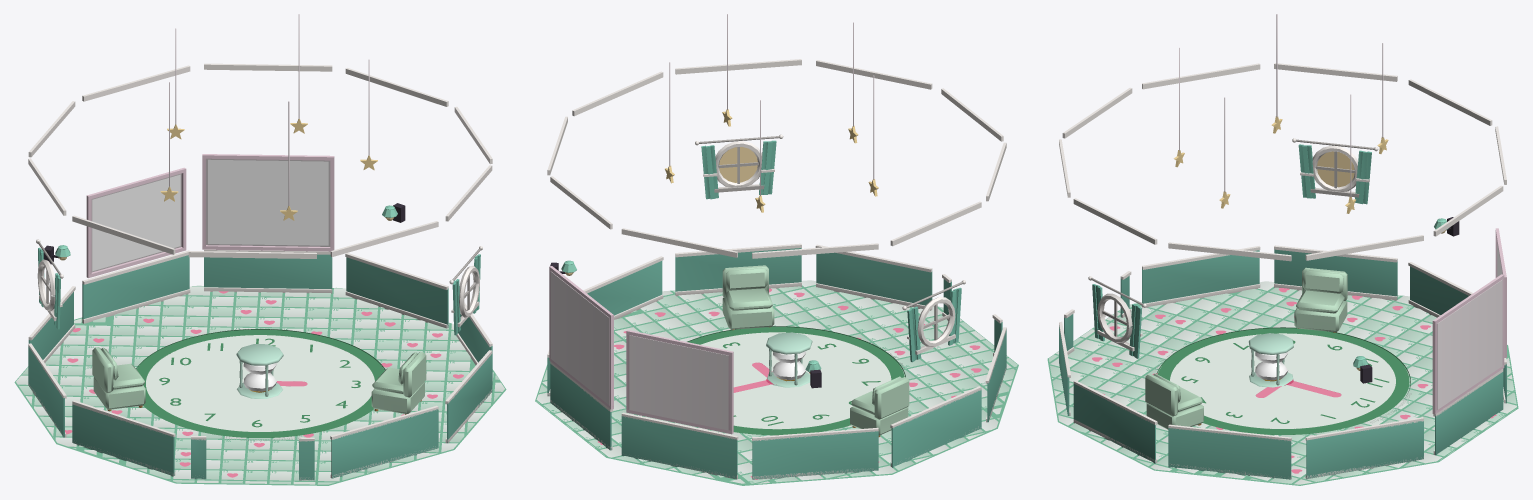
The model's file is zon_room_calendar_lite.glb.
3 renders of one model, left to right at view 1: azimuth 30°, elevation 25°; view 2: azimuth 150°, elevation 25°; view 3: azimuth 270°, elevation 25°, orthographic.
Parts seen in each view (by area): view 1: SM_zon_room_calendar_lite_room_floor_plaster_x0_zm1, SM_zon_room_calendar_lite_room_floor_glaze_x0_zm1, SM_zon_room_calendar_lite_room_rug_fabric_x0_zm1, SCREEN_fur_screen_calendar_dates__0, SCREEN_fur_screen_calendar_love__0, SM_zon_room_calendar_lite_room_floor_fabric_x0_zm1, ANIM_fur_hourglass_calendar_lite_glass__0, SM_zon_room_calendar_lite_room_floor_gloss_x0_zm1; view 2: SM_zon_room_calendar_lite_room_floor_plaster_x0_zm1, SM_zon_room_calendar_lite_room_floor_glaze_x0_zm1, SM_zon_room_calendar_lite_room_rug_fabric_x0_zm1, SM_zon_room_calendar_lite_room_floor_fabric_x0_zm1, ANIM_fur_hourglass_calendar_lite_glass__0, SM_zon_room_calendar_lite_glow_vc_x0_zm1, SM_zon_room_calendar_lite_room_floor_gloss_x0_zm1; view 3: SM_zon_room_calendar_lite_room_floor_plaster_x0_zm1, SM_zon_room_calendar_lite_room_floor_glaze_x0_zm1, SM_zon_room_calendar_lite_room_rug_fabric_x0_zm1, SM_zon_room_calendar_lite_room_floor_fabric_x0_zm1, ANIM_fur_hourglass_calendar_lite_glass__0, SM_zon_room_calendar_lite_glow_vc_x0_zm1, SM_zon_room_calendar_lite_room_floor_gloss_x0_zm1.
Boxes of the visible parts, <box> form: SM_zon_room_calendar_lite_room_floor_plaster_x0_zm1: <box>28,14,492,481</box>; SM_zon_room_calendar_lite_room_floor_glaze_x0_zm1: <box>14,285,506,485</box>; SM_zon_room_calendar_lite_room_rug_fabric_x0_zm1: <box>136,328,385,441</box>; SCREEN_fur_screen_calendar_dates__0: <box>208,159,328,245</box>; SCREEN_fur_screen_calendar_love__0: <box>92,174,180,271</box>; SM_zon_room_calendar_lite_room_floor_fabric_x0_zm1: <box>92,347,426,413</box>; ANIM_fur_hourglass_calendar_lite_glass__0: <box>236,344,283,398</box>; SM_zon_room_calendar_lite_room_floor_gloss_x0_zm1: <box>65,291,463,477</box>; SM_zon_room_calendar_lite_room_floor_plaster_x0_zm1: <box>547,14,1006,479</box>; SM_zon_room_calendar_lite_room_floor_glaze_x0_zm1: <box>535,280,1018,485</box>; SM_zon_room_calendar_lite_room_rug_fabric_x0_zm1: <box>687,326,906,435</box>; SM_zon_room_calendar_lite_room_floor_fabric_x0_zm1: <box>722,265,909,435</box>; ANIM_fur_hourglass_calendar_lite_glass__0: <box>766,332,812,387</box>; SM_zon_room_calendar_lite_glow_vc_x0_zm1: <box>565,147,810,373</box>; SM_zon_room_calendar_lite_room_floor_gloss_x0_zm1: <box>598,288,981,479</box>; SM_zon_room_calendar_lite_room_floor_plaster_x0_zm1: <box>1059,14,1506,479</box>; SM_zon_room_calendar_lite_room_floor_glaze_x0_zm1: <box>1047,281,1518,485</box>; SM_zon_room_calendar_lite_room_rug_fabric_x0_zm1: <box>1155,327,1411,434</box>; SM_zon_room_calendar_lite_room_floor_fabric_x0_zm1: <box>1145,267,1347,429</box>; ANIM_fur_hourglass_calendar_lite_glass__0: <box>1248,333,1293,387</box>; SM_zon_room_calendar_lite_glow_vc_x0_zm1: <box>1317,151,1446,370</box>; SM_zon_room_calendar_lite_room_floor_gloss_x0_zm1: <box>1092,288,1496,473</box>.
Bounding box in the file's own units: 10.57 × 7.83 × 10.29.
